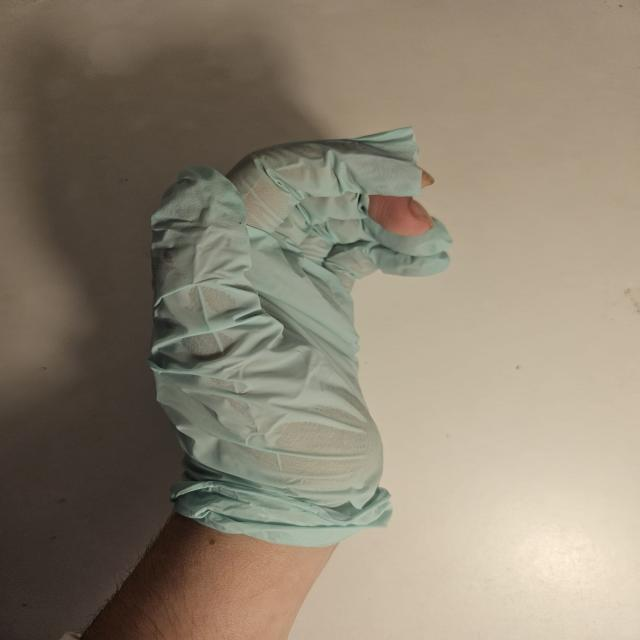gloves_damaged: (135, 124, 459, 550)
